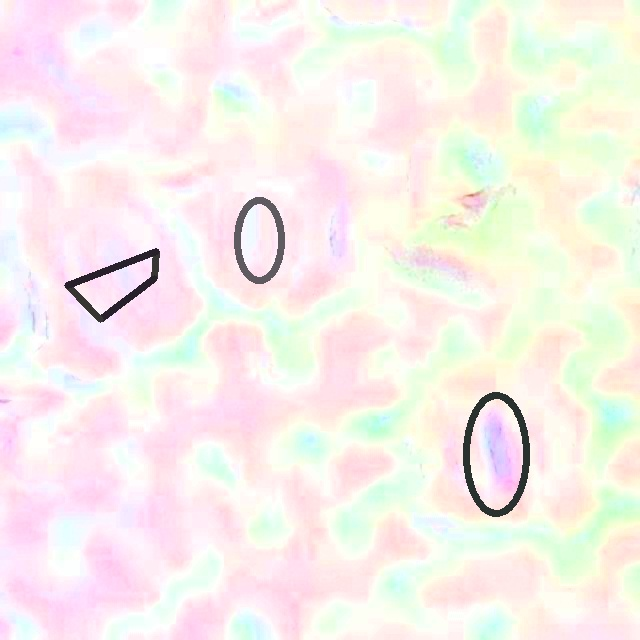close: (64, 248, 157, 322), (232, 196, 285, 283)
open: (461, 392, 530, 517)
